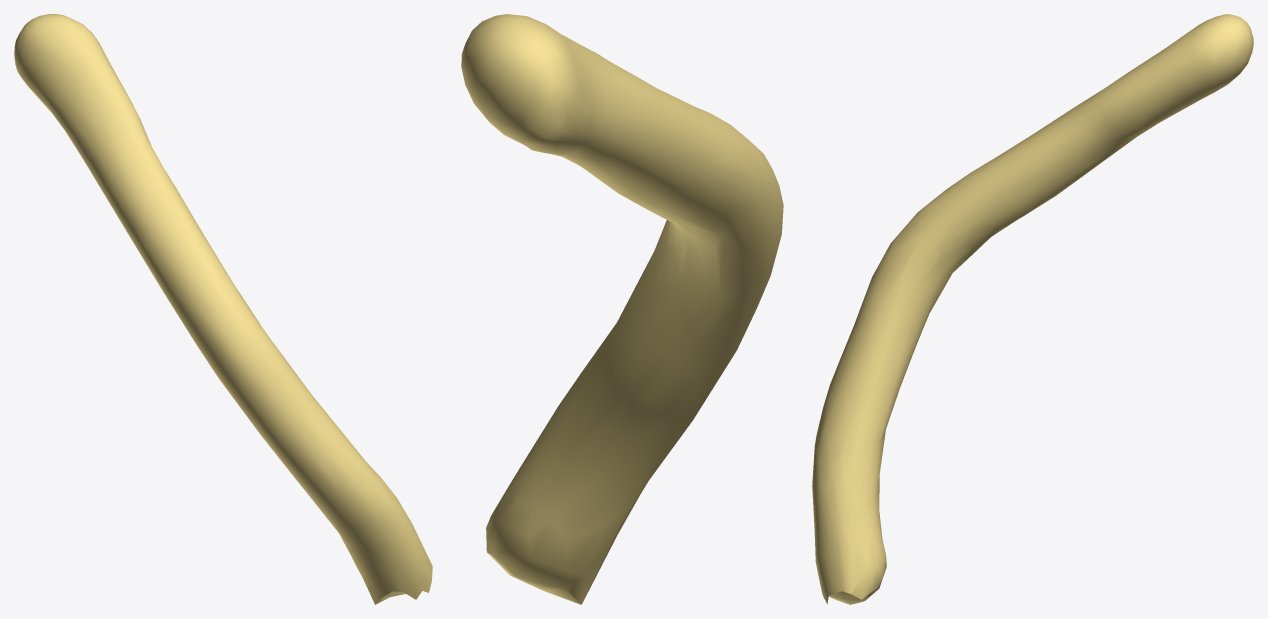
File: fma73393_mm3578m.glb
3 renders of one model, left to right at view 1: azimuth 30°, elevation 25°; view 2: azimuth 150°, elevation 25°; view 3: azimuth 270°, elevation 25°, orthographic. The views are drawn at different scales.
Parts seen in each view (by area): view 1: FMA73393_MM3578M; view 2: FMA73393_MM3578M; view 3: FMA73393_MM3578M.
Part boxes in pixels (x1,y1,x2,y2): FMA73393_MM3578M: (14, 14, 432, 604); FMA73393_MM3578M: (461, 14, 783, 604); FMA73393_MM3578M: (812, 14, 1253, 604).
Size of the model in its own units: 0.00655 by 0.0134 by 0.0106.
